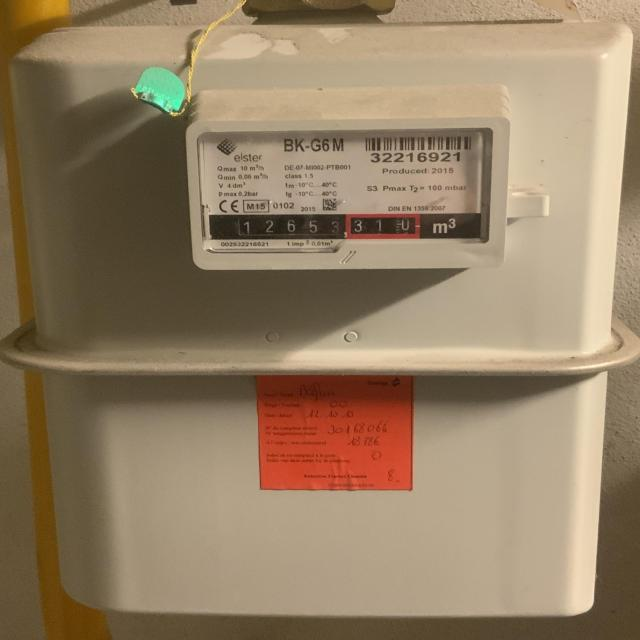gaz_meter: (198, 128, 490, 244)
indication: (222, 211, 426, 244)
